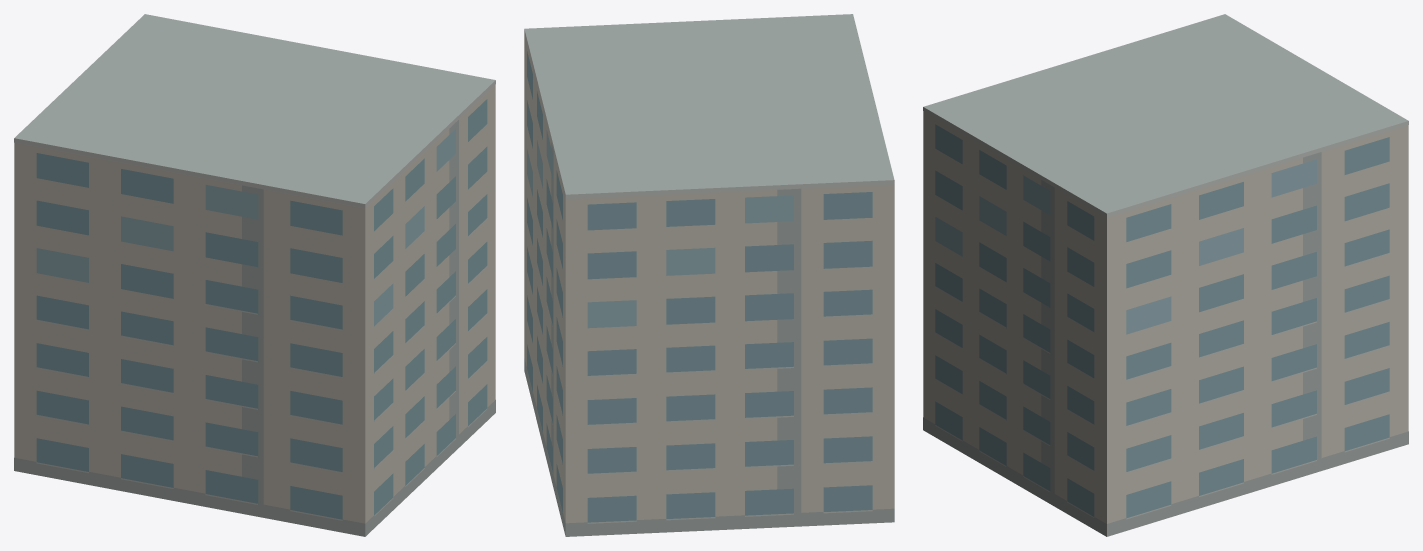
File: residential-a5508aab-9a60-4a6b-b286-600f9c7e23b7.glb
The picture shows the model from 3 angles, left to right: view 1: azimuth 30°, elevation 25°; view 2: azimuth 150°, elevation 25°; view 3: azimuth 270°, elevation 25°; orthographic projection. The views are drawn at different scales.
Parts seen in each view (by area): view 1: residential-a5508aab-9a60-4a6b-b286-600f9c7e23b7.tmp; view 2: residential-a5508aab-9a60-4a6b-b286-600f9c7e23b7.tmp; view 3: residential-a5508aab-9a60-4a6b-b286-600f9c7e23b7.tmp.
Boxes of the visible parts, x1,y1,x2,y2 form: residential-a5508aab-9a60-4a6b-b286-600f9c7e23b7.tmp: [14, 14, 495, 536]; residential-a5508aab-9a60-4a6b-b286-600f9c7e23b7.tmp: [524, 14, 894, 536]; residential-a5508aab-9a60-4a6b-b286-600f9c7e23b7.tmp: [923, 14, 1408, 536].
Size of the model in its own units: 24.62 by 18.6 by 25.32.
